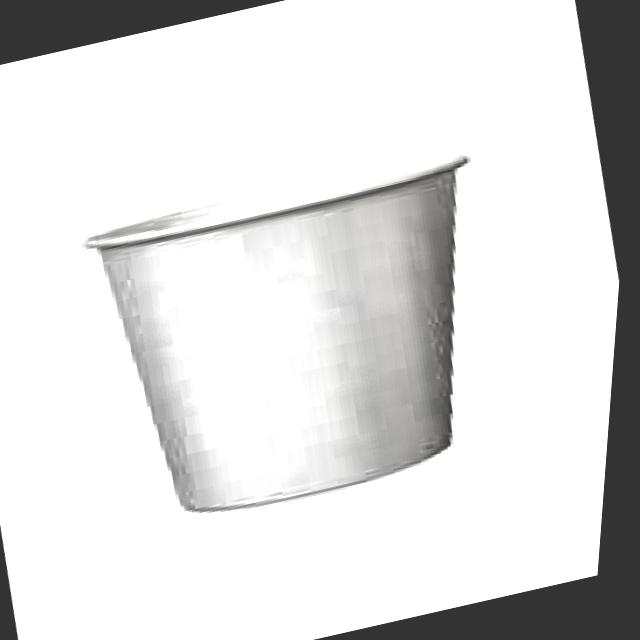Cup: (56, 136, 546, 544)
